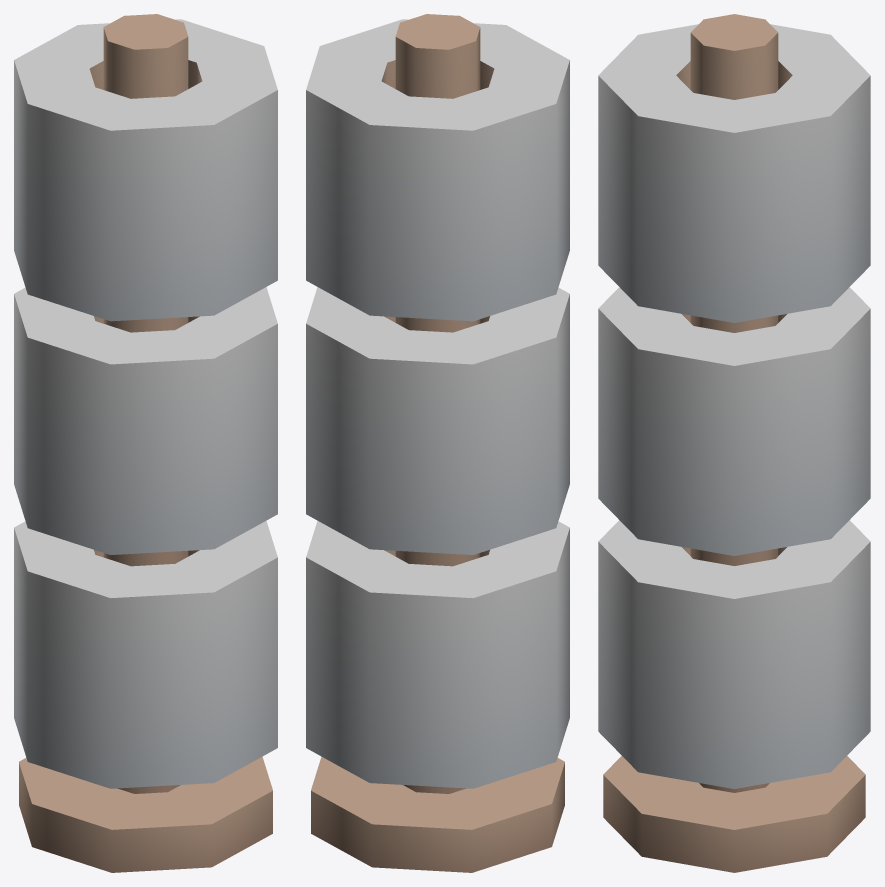
The model's file is toilet-paper-stack.glb.
3 views of the same model, side by side, from view 1: azimuth 30°, elevation 25°; view 2: azimuth 150°, elevation 25°; view 3: azimuth 270°, elevation 25° (orthographic).
Visible parts, largest first — view 1: toilet-paper-stack; view 2: toilet-paper-stack; view 3: toilet-paper-stack.
Boxes of the visible parts, box(x1,y1,x2,y2) form: toilet-paper-stack: box(14, 14, 277, 872); toilet-paper-stack: box(306, 14, 569, 872); toilet-paper-stack: box(598, 14, 870, 872).
Bounding box in the file's own units: 0.1437 × 0.4568 × 0.1437.
